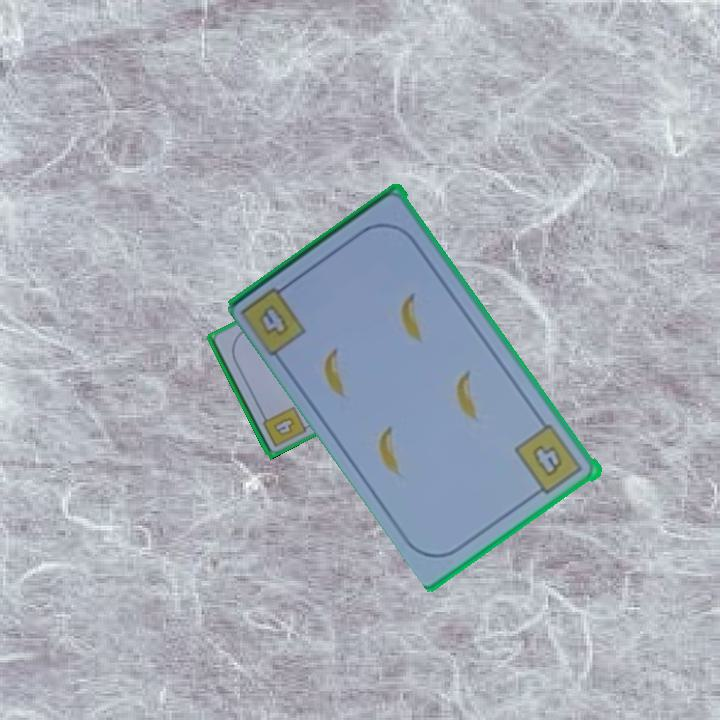4b: (511, 421, 587, 500), (239, 277, 311, 358), (257, 402, 309, 450)
